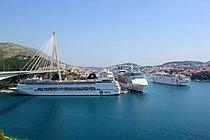Ship: (25, 67, 123, 100)
